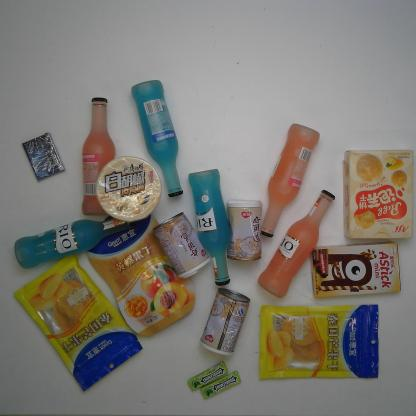Alcohol: (256, 188, 335, 300), (13, 211, 136, 270), (258, 122, 320, 238), (130, 78, 185, 199), (188, 168, 233, 286), (78, 94, 118, 218)
Canned Food: (152, 210, 211, 281), (197, 287, 251, 358), (225, 198, 263, 263)
Dessert: (341, 148, 414, 241), (307, 240, 403, 300)
Dried Fruit: (13, 252, 145, 393), (84, 208, 196, 338), (258, 304, 381, 380)
Gum: (20, 131, 66, 183), (187, 360, 228, 392), (200, 370, 242, 400)
Instant Noodles: (94, 154, 166, 226)
